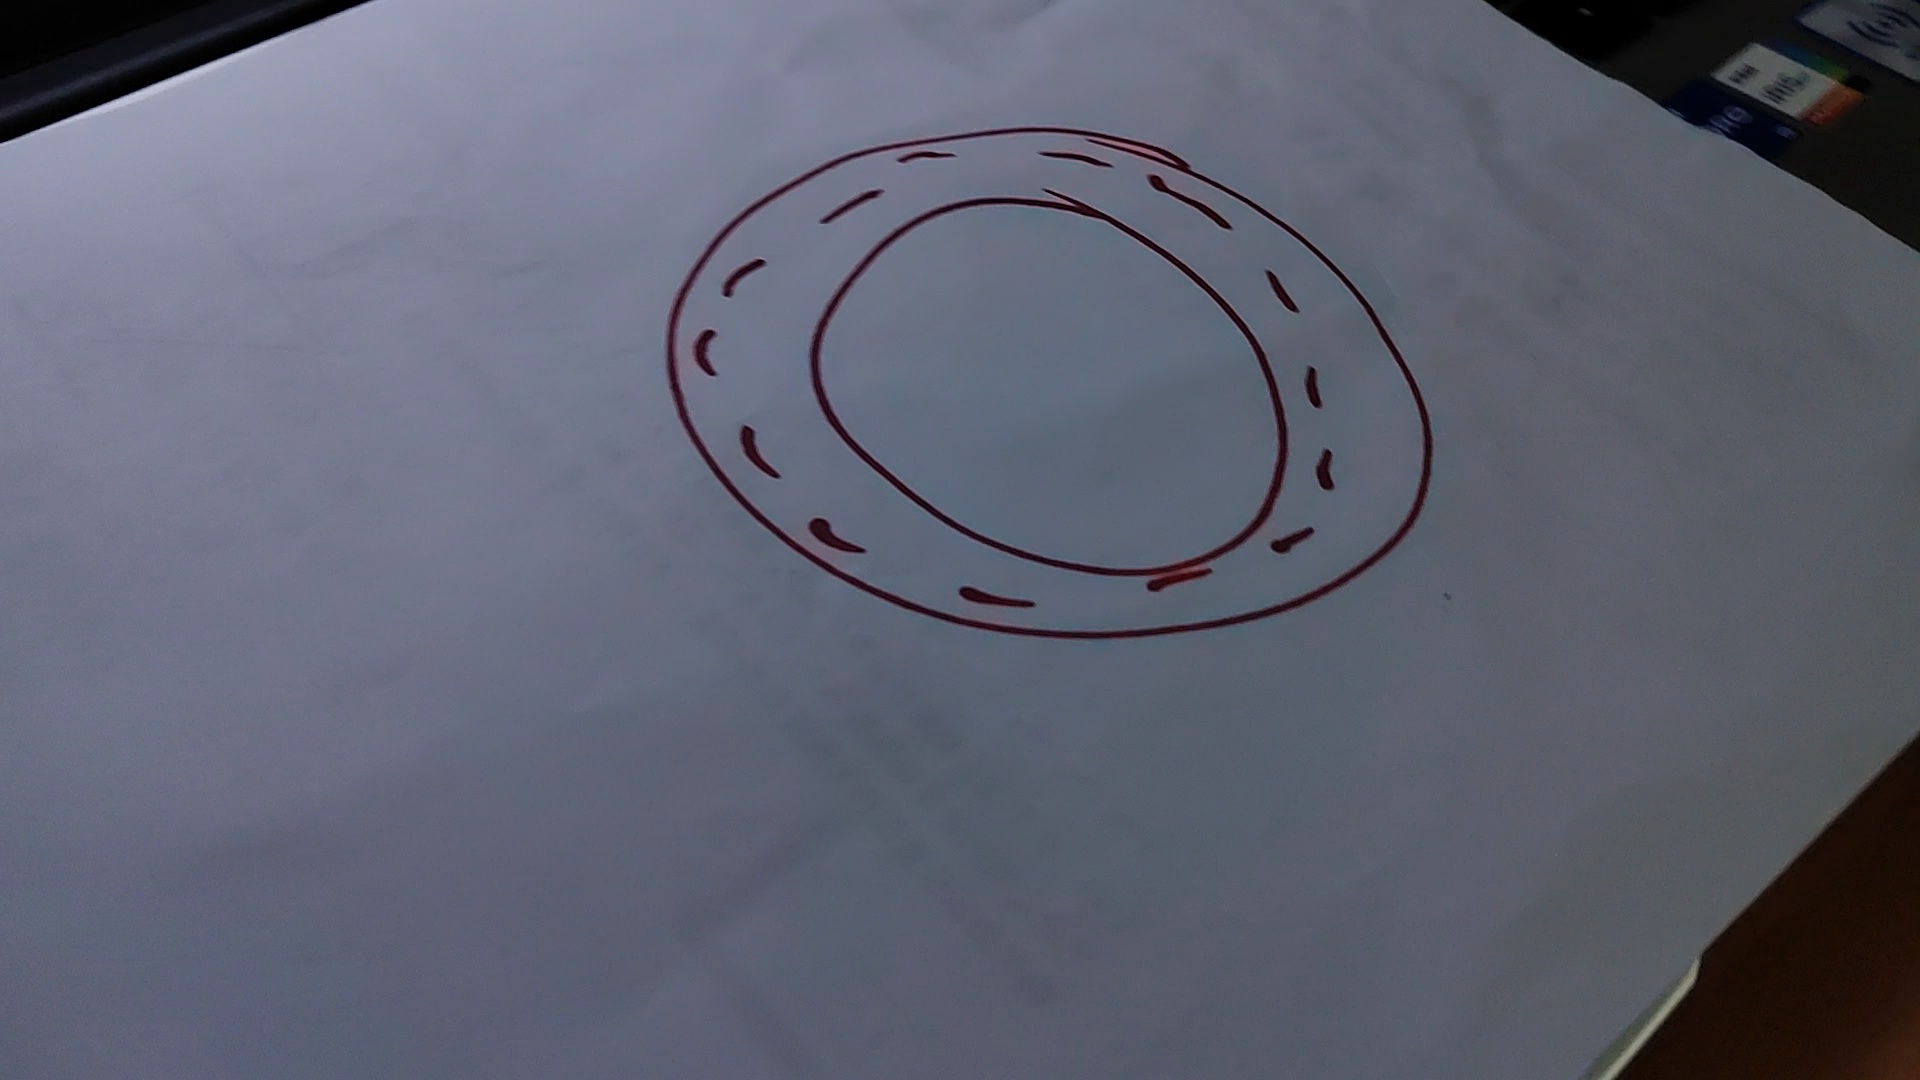circle: (669, 125, 1433, 641)
